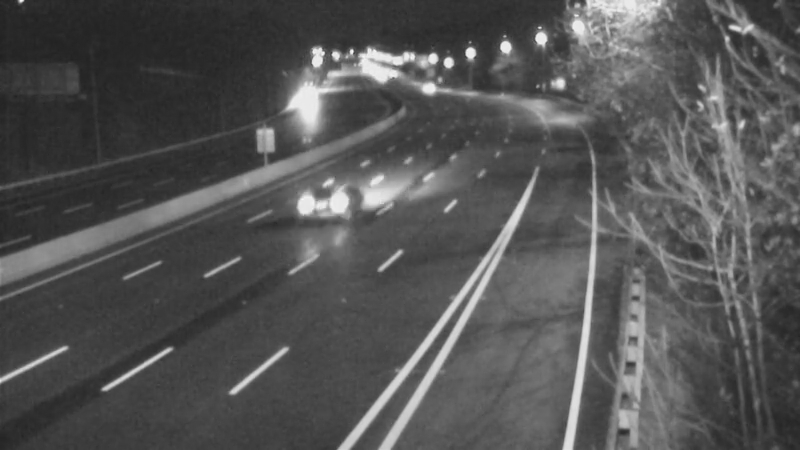vehicle: (296, 161, 376, 241), (404, 62, 454, 112)
